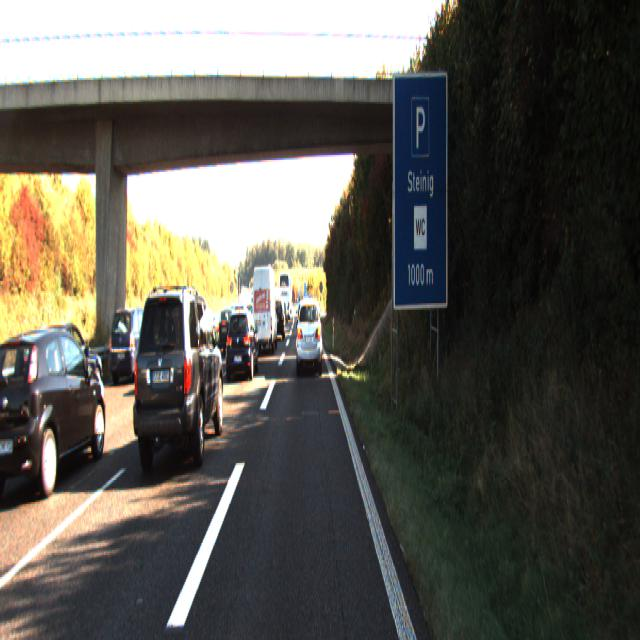Car: (0, 322, 110, 504), (132, 285, 225, 479), (109, 309, 158, 387), (161, 310, 207, 390), (224, 308, 258, 380), (251, 263, 278, 353), (295, 294, 322, 374), (270, 301, 285, 344)
